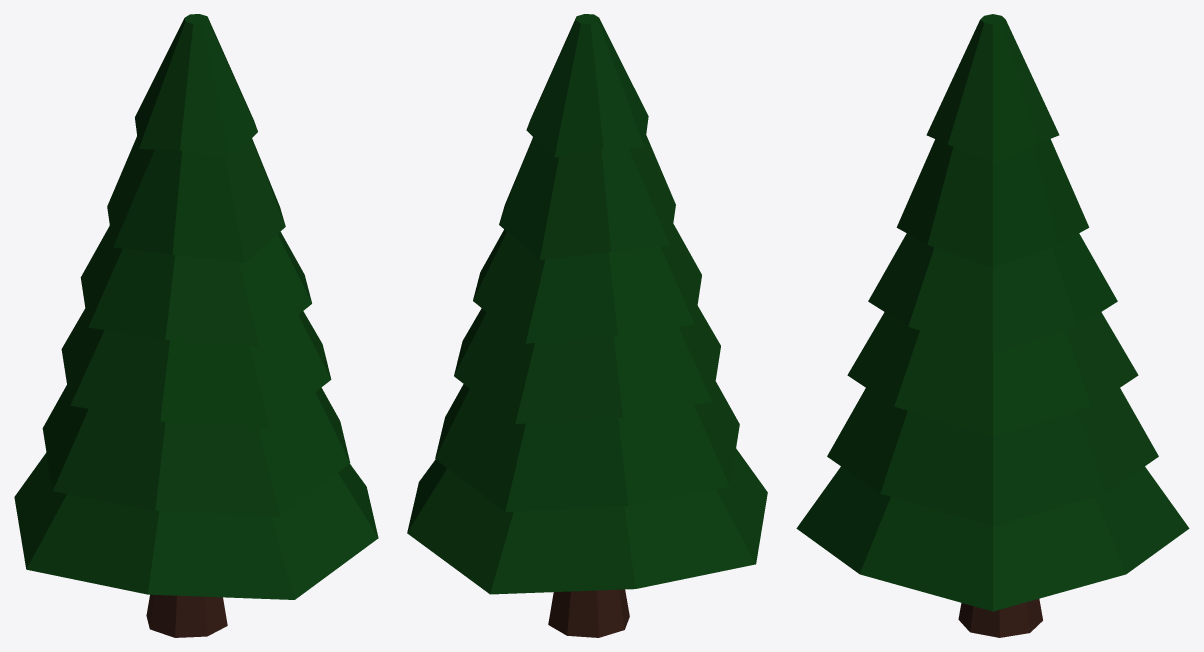
File: ChristmasTree.fbx
3 views of the same model, side by side, from view 1: azimuth 30°, elevation 25°; view 2: azimuth 150°, elevation 25°; view 3: azimuth 270°, elevation 25° (orthographic).
Parts seen in each view (by area): view 1: ChristmasTreeTop, ChristmasTreeTrunk; view 2: ChristmasTreeTop, ChristmasTreeTrunk; view 3: ChristmasTreeTop, ChristmasTreeTrunk.
Boxes of the visible parts, <box> form: ChristmasTreeTop: <box>14,14,378,599</box>; ChristmasTreeTrunk: <box>146,594,227,637</box>; ChristmasTreeTop: <box>407,14,767,594</box>; ChristmasTreeTrunk: <box>548,589,629,637</box>; ChristmasTreeTop: <box>796,14,1189,611</box>; ChristmasTreeTrunk: <box>958,599,1042,637</box>.
Size of the model in its own units: 351 by 594 by 351.
